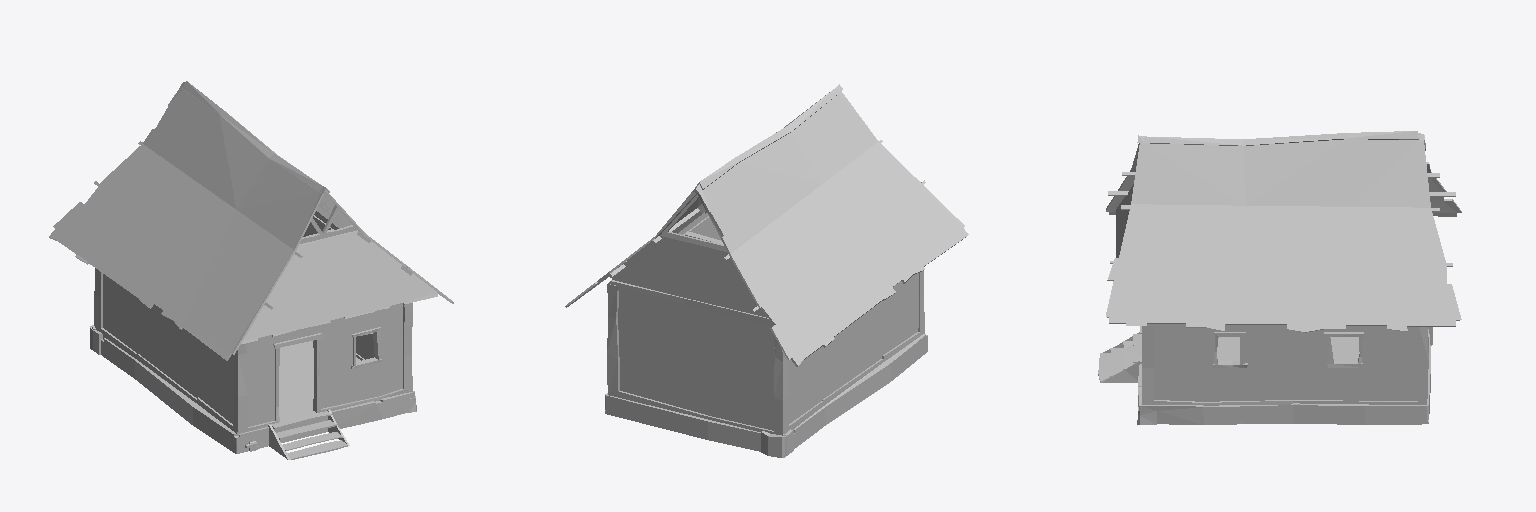
Rendered from cabin.obj.
3 renders of one model, left to right at view 1: azimuth 30°, elevation 25°; view 2: azimuth 150°, elevation 25°; view 3: azimuth 270°, elevation 25°, orthographic.
Visible parts, largest first — view 1: Roof_roof, WoodCabin; view 2: Roof_roof, WoodCabin; view 3: Roof_roof, WoodCabin.
Part boxes in pixels (bbox=[...]): Roof_roof: bbox=[49, 81, 453, 360]; WoodCabin: bbox=[90, 212, 416, 459]; Roof_roof: bbox=[565, 84, 968, 366]; WoodCabin: bbox=[605, 213, 927, 457]; Roof_roof: bbox=[1106, 131, 1461, 332]; WoodCabin: bbox=[1098, 324, 1432, 424].
Bounding box in the file's own units: 66.63 × 66.72 × 87.92.